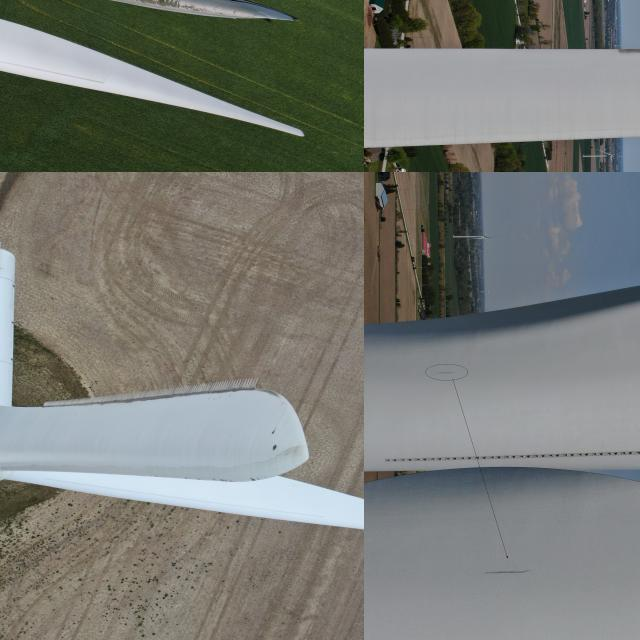damage: (24, 0, 221, 16), (474, 554, 540, 580), (178, 474, 234, 484), (246, 472, 270, 481), (268, 428, 276, 433)
